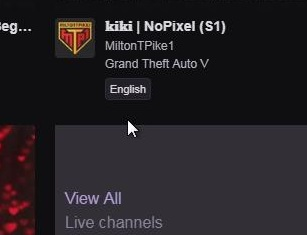cursor: (122, 117, 142, 141)
